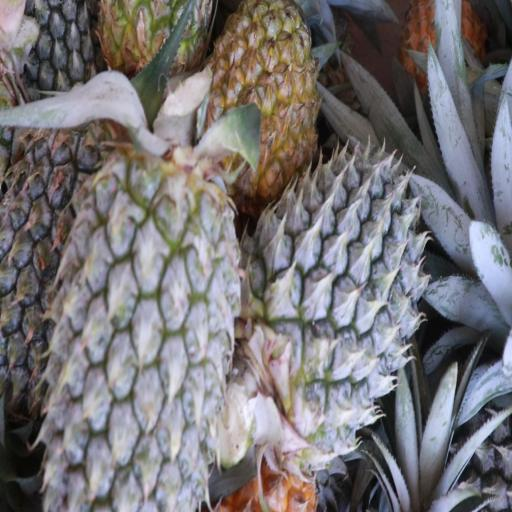Pineapple - v8 v1: (213, 0, 316, 192)
